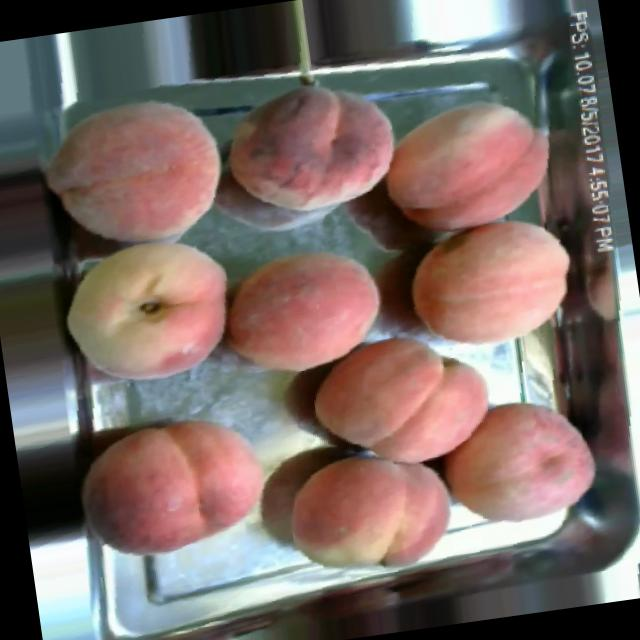Fruit: (29, 83, 240, 262), (66, 401, 284, 574), (291, 316, 508, 488), (208, 64, 418, 238), (51, 224, 249, 399), (268, 427, 470, 595), (204, 232, 400, 396), (365, 86, 565, 246), (392, 208, 594, 366), (424, 382, 616, 546)
